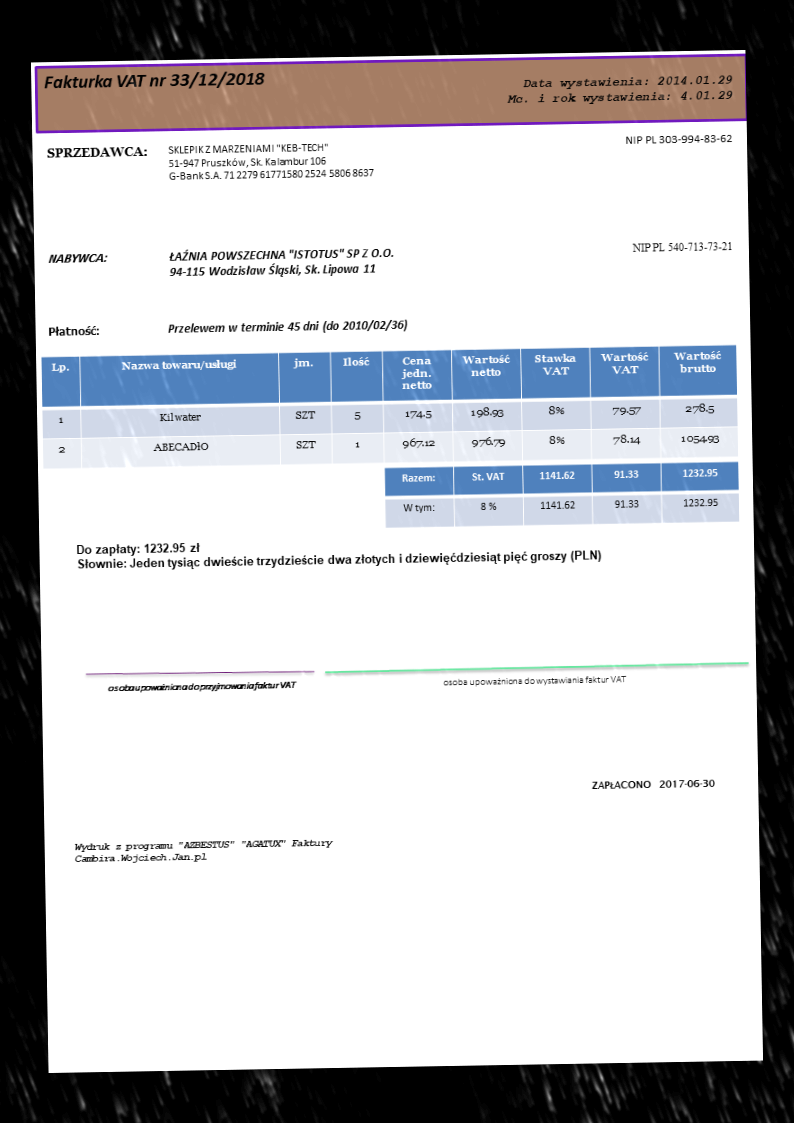Table: (39, 342, 739, 468), (382, 460, 740, 530)
TextBox: (74, 532, 604, 575), (166, 137, 376, 185), (503, 71, 735, 108), (166, 244, 397, 281), (72, 834, 337, 866), (40, 66, 267, 94), (165, 317, 409, 336), (105, 677, 297, 696), (439, 672, 630, 689), (589, 775, 718, 794), (623, 129, 734, 148), (43, 142, 148, 162), (628, 237, 735, 255), (45, 250, 108, 267), (44, 322, 101, 339)
